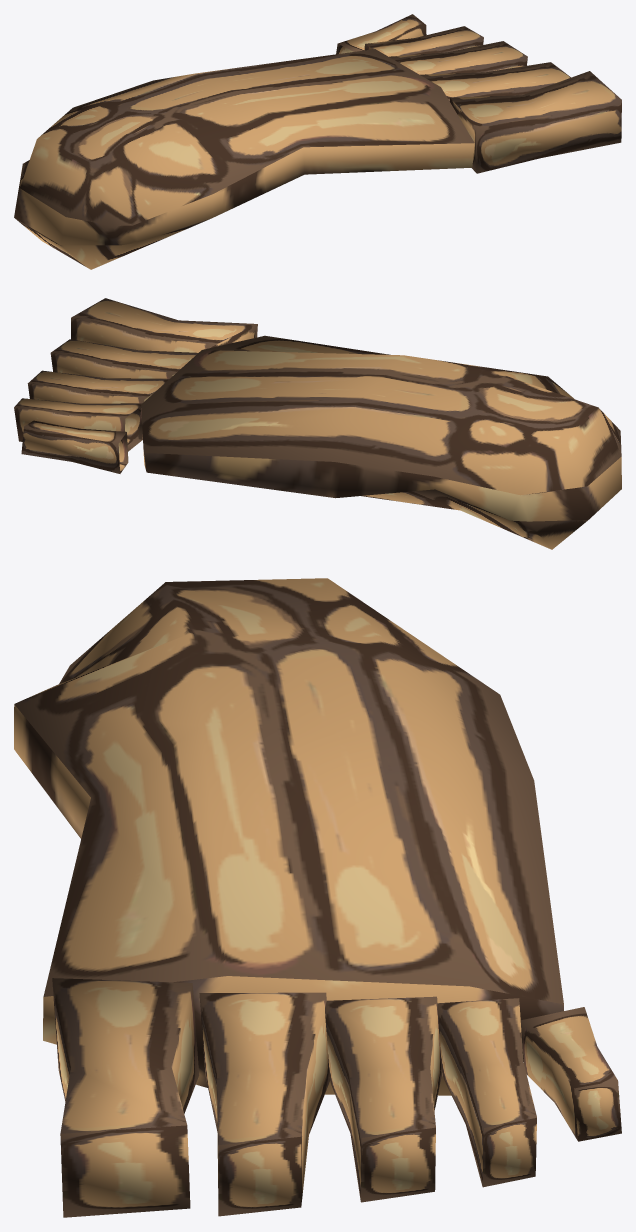
File: SM_PROP_skeleton_foot_L_dungeon.fbx
The picture shows the model from 3 angles, top to bottom: view 1: azimuth 30°, elevation 25°; view 2: azimuth 150°, elevation 25°; view 3: azimuth 270°, elevation 25°; orthographic projection. The views are drawn at different scales.
Visible parts, largest first — view 1: SM_PROP_skeleton_foot_L_dungeon; view 2: SM_PROP_skeleton_foot_L_dungeon; view 3: SM_PROP_skeleton_foot_L_dungeon.
Part boxes in pixels (<box>): SM_PROP_skeleton_foot_L_dungeon: <box>14,14,621,269</box>; SM_PROP_skeleton_foot_L_dungeon: <box>14,298,621,549</box>; SM_PROP_skeleton_foot_L_dungeon: <box>14,578,621,1217</box>.
Bounding box in the file's own units: 30.36 × 6.55 × 15.31.
